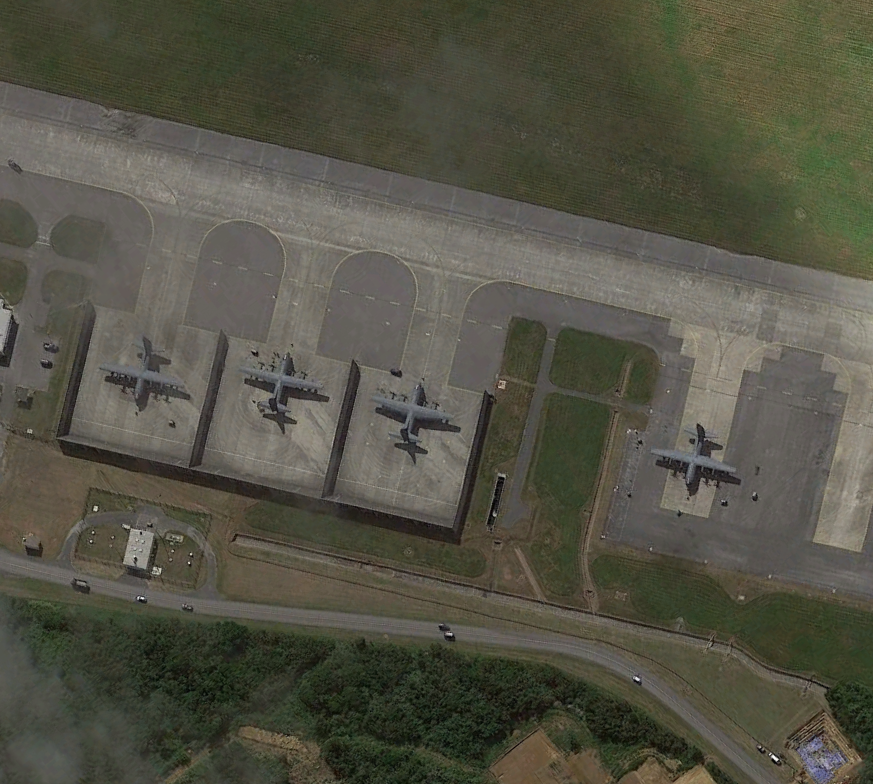A2: (98, 329, 189, 414), (235, 346, 324, 430), (368, 374, 457, 458), (649, 414, 738, 498)
